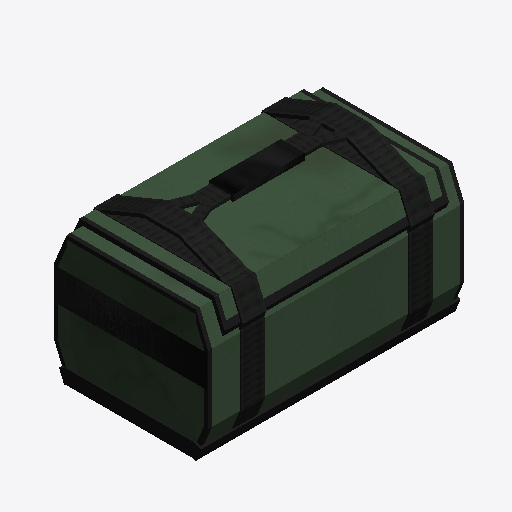
A Minecraft block model of 62 cuboids, rendered isometrically (azimuth 45°, elevation 35.3°) with the resource pack's own textures.
Visible parts, largest first — element 61, element 56, element 58, element 4, element 60, element 7, element 6, element 1, element 36, element 62, element 45, element 13 (+13 smaller).
Boxes of the visible parts, box(x1,y1,x2,y2) form: element 61: box(79, 89, 437, 300); element 56: box(192, 203, 463, 428); element 58: box(67, 87, 451, 440); element 4: box(212, 167, 448, 330); element 60: box(55, 266, 206, 389); element 7: box(191, 296, 459, 460); element 6: box(185, 282, 463, 445); element 1: box(196, 162, 463, 350); element 36: box(209, 139, 304, 201); element 62: box(66, 367, 195, 458); element 45: box(240, 318, 264, 411); element 13: box(408, 221, 432, 314).
Size of the model in its own units: 16.2 by 9.72 by 10.36.